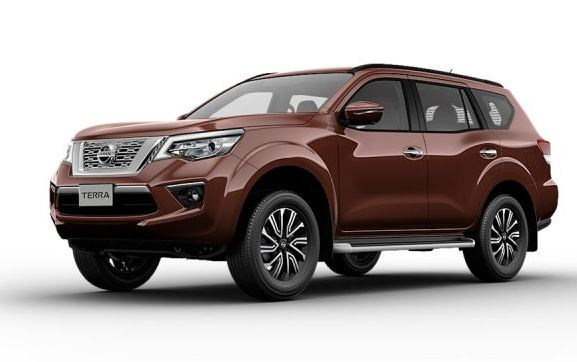pickup: (48, 60, 556, 302)
